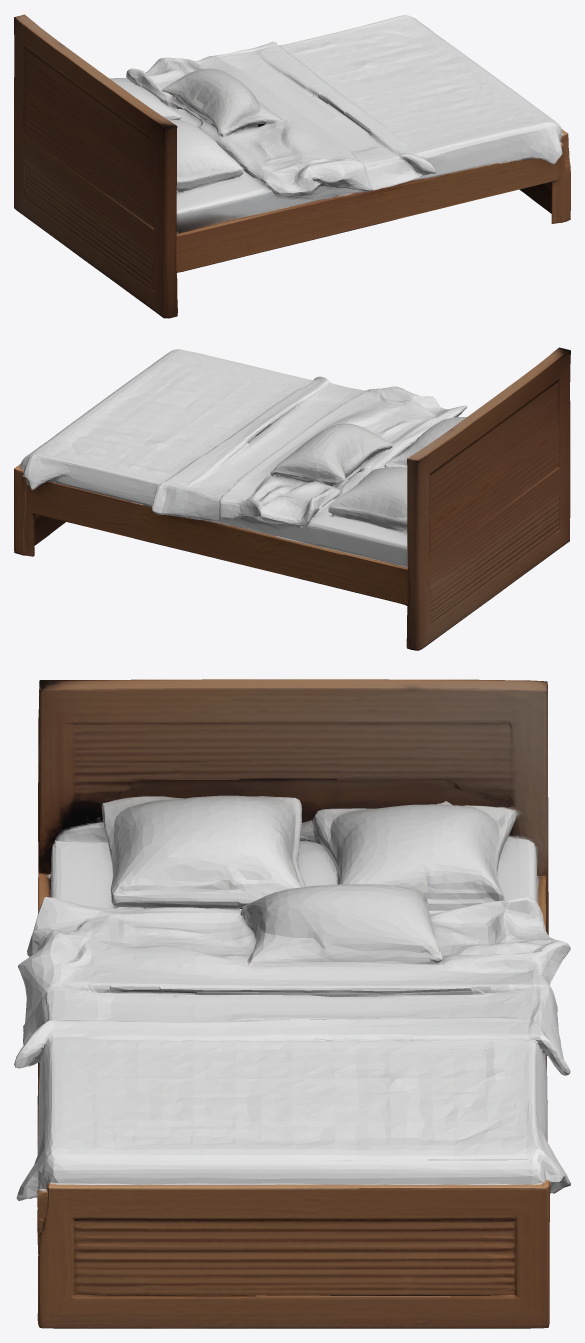
Rendered from 4pics_model.glb.
3 views of the same model, one above another, from view 1: azimuth 30°, elevation 25°; view 2: azimuth 150°, elevation 25°; view 3: azimuth 270°, elevation 25° (orthographic). The views are drawn at different scales.
Parts seen in each view (by area): view 1: world; view 2: world; view 3: world.
Part boxes in pixels (x1,y1,x2,y2): world: (14, 14, 570, 318); world: (14, 347, 570, 650); world: (14, 679, 570, 1328).
Bounding box in the file's own units: 1 × 0.449 × 0.7103.
1 material, 1 textured.
